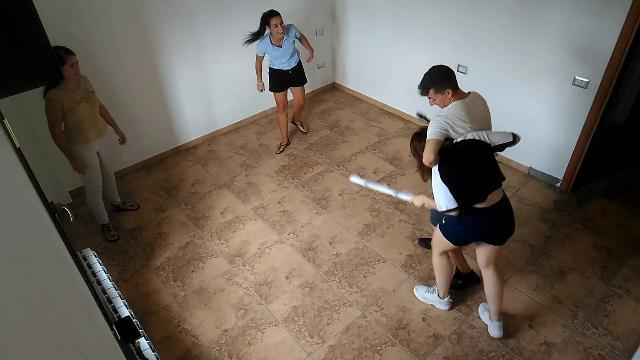non-violence: (39, 45, 145, 245), (245, 7, 318, 161)
violence: (350, 61, 520, 346)
weapon: (415, 111, 430, 123)
